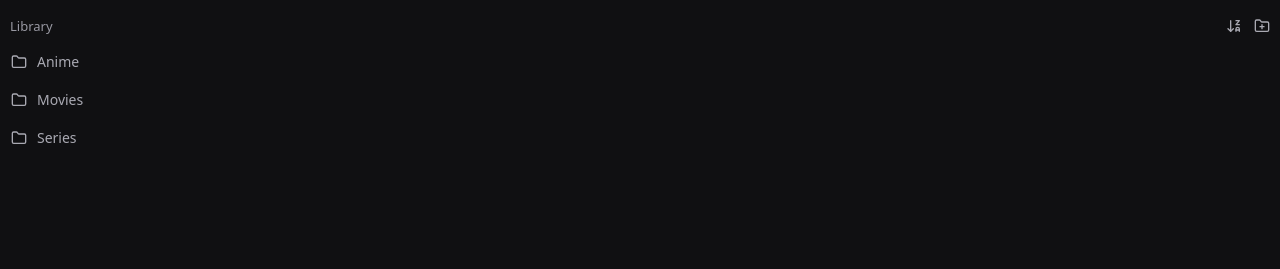
library folder sort menu › shows the saved mode nameDescending as Name, Z to A
This screenshot has width=1280, height=269.
Step 1. Click the button named "Sort folders: Name, Z to A" → click(1234, 26), box [1220,12,1248,40]
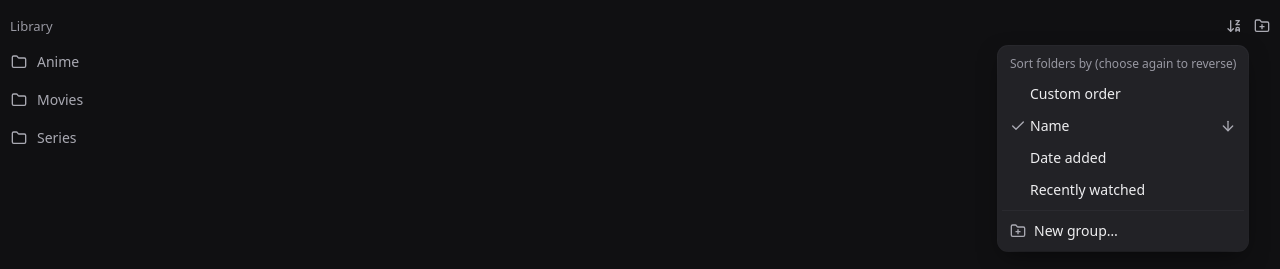
Now the menu shows "Sort folders by (choose again to reverse)", box [1010,55,1236,72]
